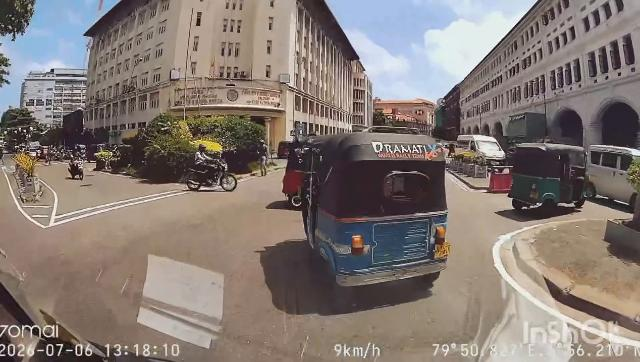number plate: (427, 237, 456, 265)
